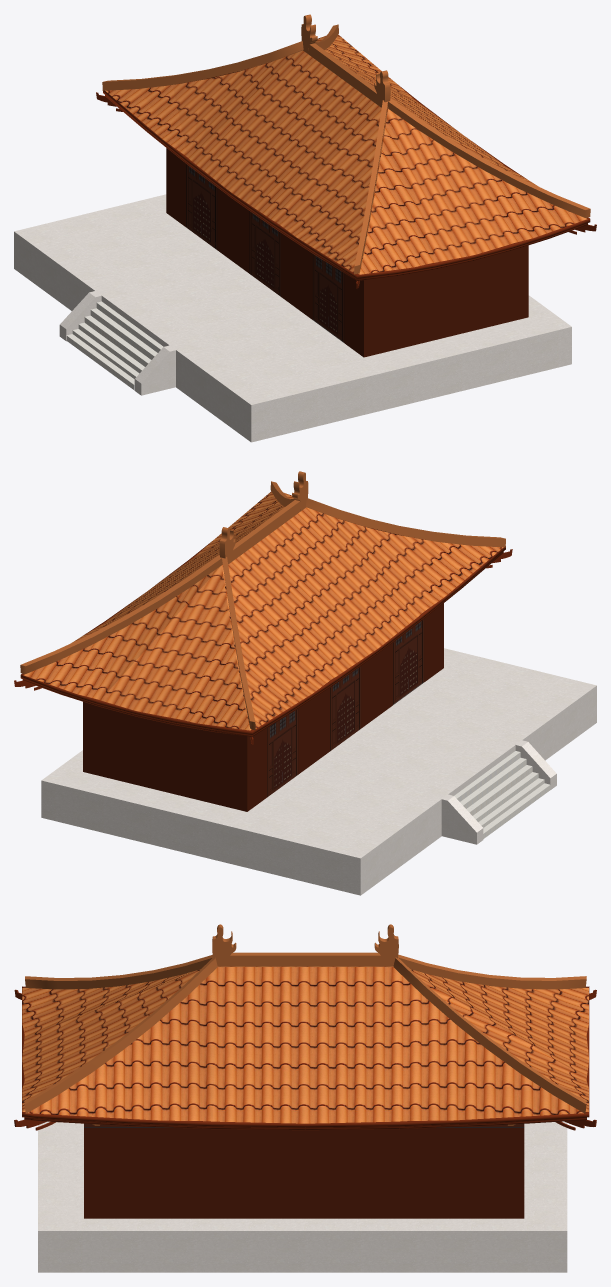
The model's file is zongmiao.FBX.
3 renders of one model, top to bottom at view 1: azimuth 30°, elevation 25°; view 2: azimuth 150°, elevation 25°; view 3: azimuth 270°, elevation 25°, orthographic. The views are drawn at different scales.
Visible parts, largest first — view 1: 对象124; view 2: 对象124; view 3: 对象124.
Boxes of the visible parts, <box> form: 对象124: <box>14,14,596,442</box>; 对象124: <box>14,471,596,895</box>; 对象124: <box>14,924,596,1272</box>.
Bounding box in the file's own units: 363 × 242 × 443.
Materials: 13 (10 with a texture image).
